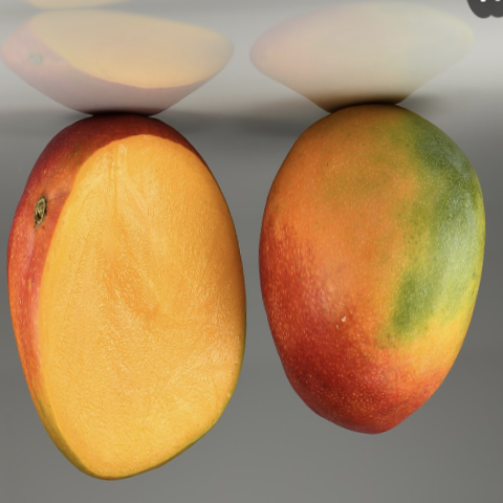mango: (0, 68, 259, 503), (244, 63, 501, 445)
